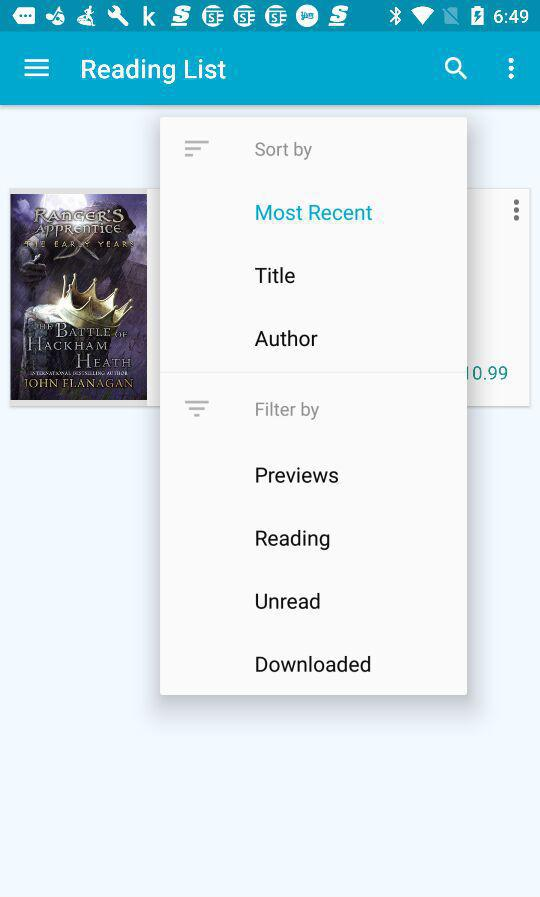Icon: (444, 57, 468, 82), (24, 59, 51, 78), (184, 140, 211, 159), (184, 400, 211, 418), (508, 59, 516, 81), (513, 199, 520, 223)
Image: (11, 195, 148, 401)
Modal: (160, 117, 468, 696)
Text: (82, 59, 227, 86), (256, 204, 375, 223), (255, 654, 372, 673), (256, 529, 331, 552), (255, 466, 340, 485), (255, 401, 321, 422), (256, 592, 322, 611), (255, 141, 314, 162), (254, 329, 319, 348), (254, 266, 297, 285)
UpperTaskBar: (1, 1, 540, 33)
